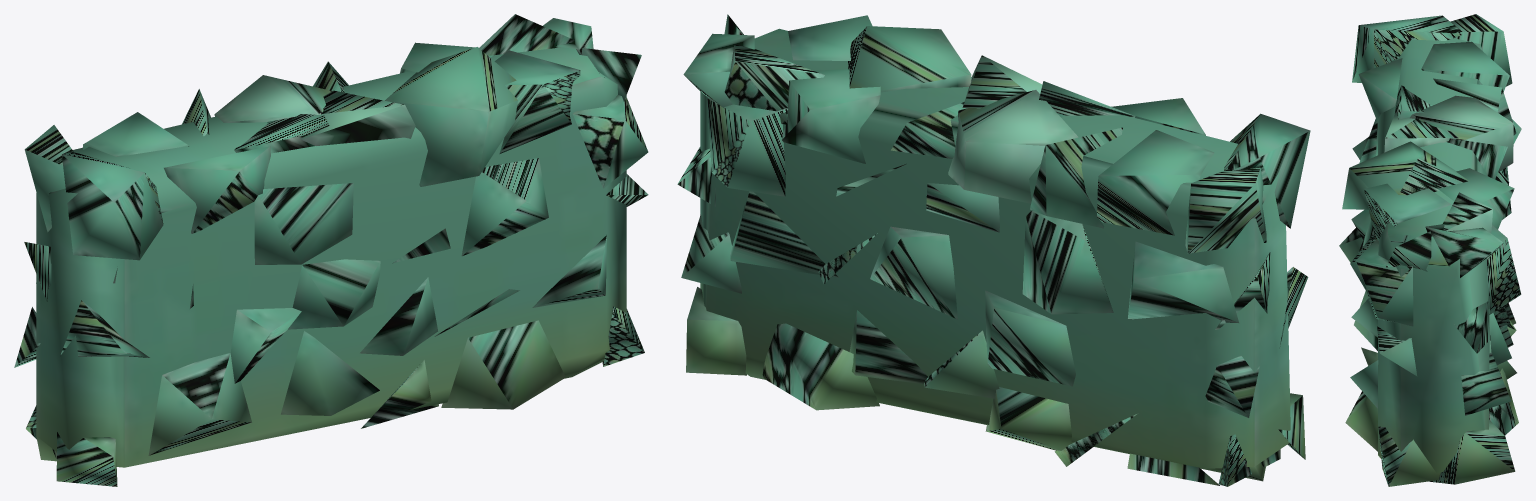
The model's file is hedge.glb.
3 views of the same model, side by side, from view 1: azimuth 30°, elevation 25°; view 2: azimuth 150°, elevation 25°; view 3: azimuth 270°, elevation 25° (orthographic). The views are drawn at different scales.
Visible parts, largest first — view 1: hedge_body; view 2: hedge_body; view 3: hedge_body.
Boxes of the visible parts, x1,y1,x2,y2 form: hedge_body: (14,14,648,486); hedge_body: (677,14,1310,486); hedge_body: (1339,14,1521,486).
Bounding box in the file's own units: 1.94 × 1.06 × 0.6518.
Materials: 1 (1 with a texture image).
